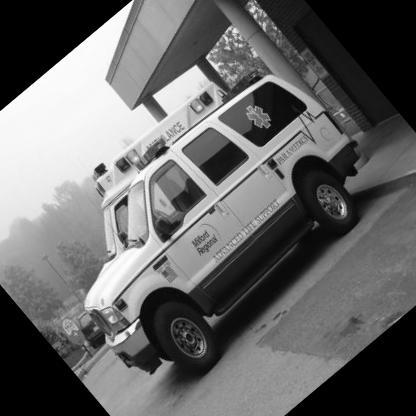ambulance: (1, 21, 416, 416)
